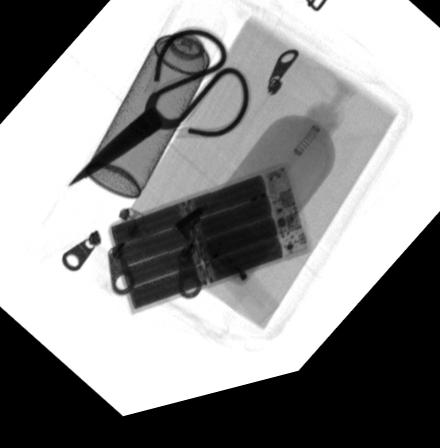Lighter: (190, 245, 259, 305)
Powerbank: (104, 176, 311, 326)
Scissors: (67, 32, 252, 190)
Sprayer: (81, 6, 239, 207)
